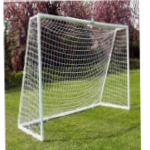goals: (17, 10, 134, 142)
